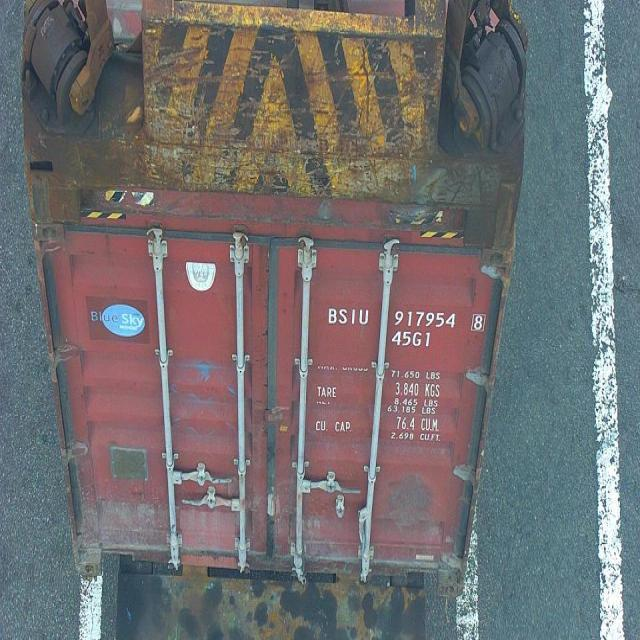ISO: (392, 329, 434, 347)
container_number: (328, 304, 484, 334)
